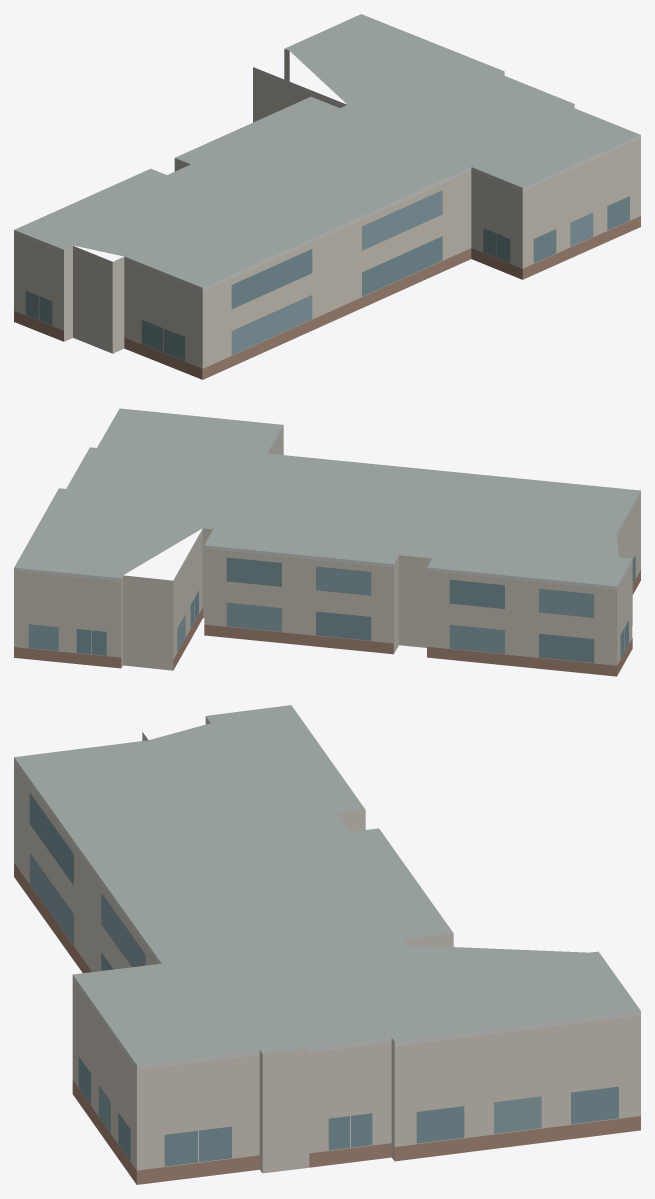
File: survey-upis-32709141.glb
3 views of the same model, one above another, from view 1: azimuth 30°, elevation 25°; view 2: azimuth 150°, elevation 25°; view 3: azimuth 270°, elevation 25° (orthographic). The views are drawn at different scales.
Parts seen in each view (by area): view 1: survey-upis-32709141.tmp; view 2: survey-upis-32709141.tmp; view 3: survey-upis-32709141.tmp.
Boxes of the visible parts, x1,y1,x2,y2 form: survey-upis-32709141.tmp: [14, 14, 640, 379]; survey-upis-32709141.tmp: [14, 408, 640, 676]; survey-upis-32709141.tmp: [14, 705, 640, 1184].
Size of the model in its own units: 39.38 by 6.1 by 28.96.
